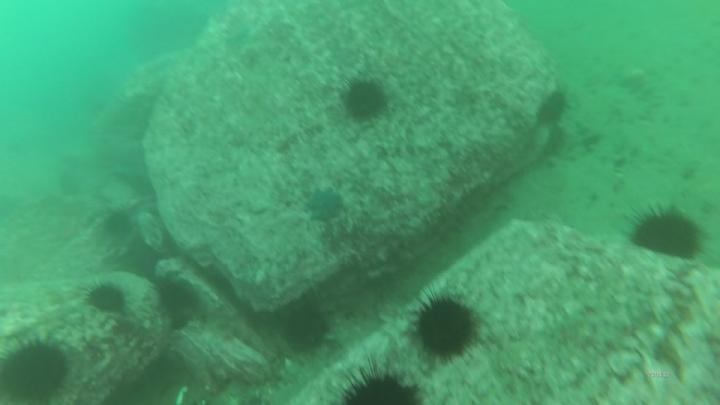echinus: (7, 346, 67, 399), (419, 301, 473, 359), (636, 214, 703, 258), (346, 377, 420, 405), (287, 309, 327, 349), (348, 81, 384, 116), (537, 91, 570, 127), (159, 284, 197, 311), (88, 287, 125, 313), (104, 211, 134, 238)
starfish: (308, 192, 341, 223)
